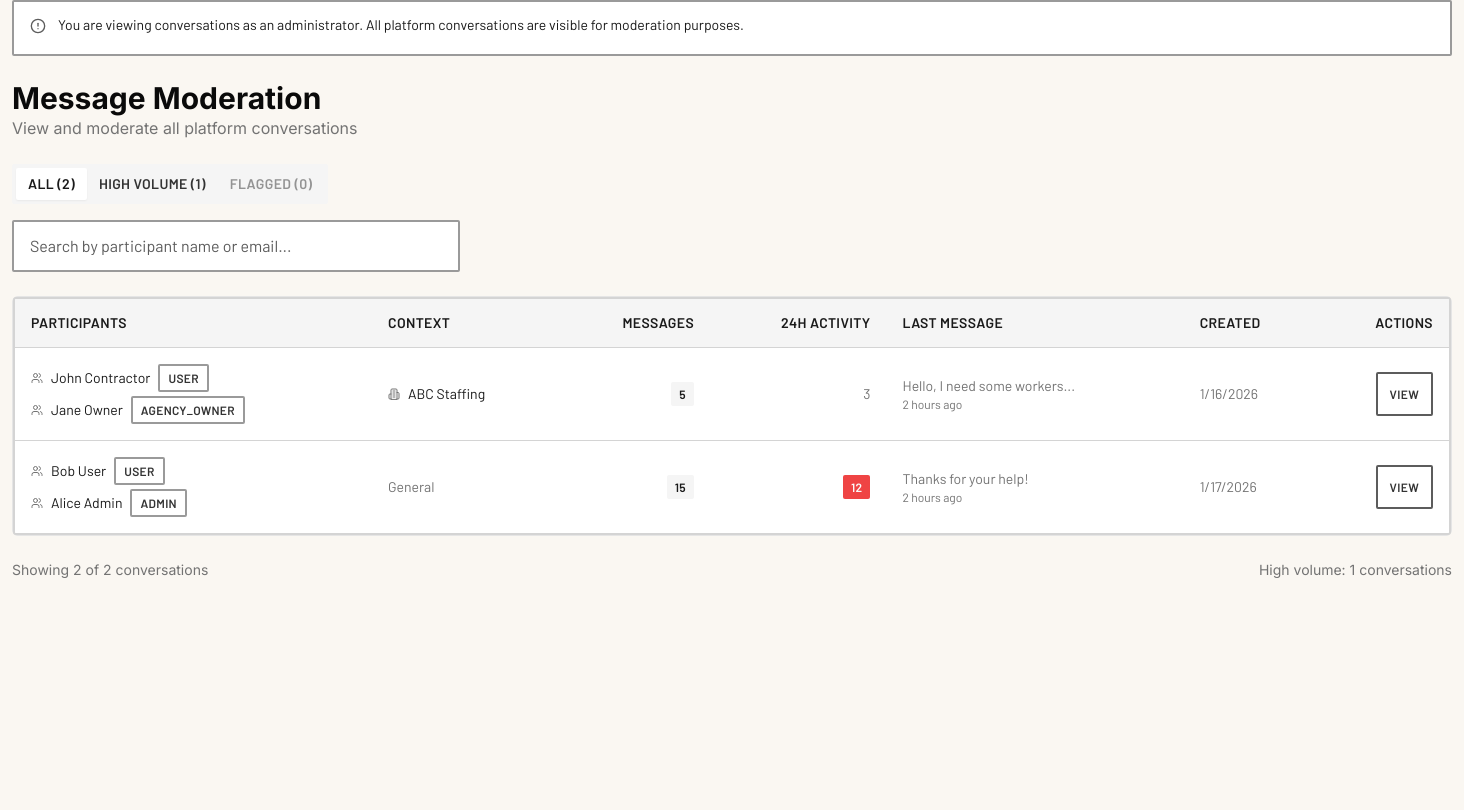
Test: AdminMessagesClient › Filter Tabs › should filter to high volume conversations
The image size is (1464, 810).
Click the tab "High Volume (1)".
click(152, 184)  # box x1=87 y1=168 x2=218 y2=200
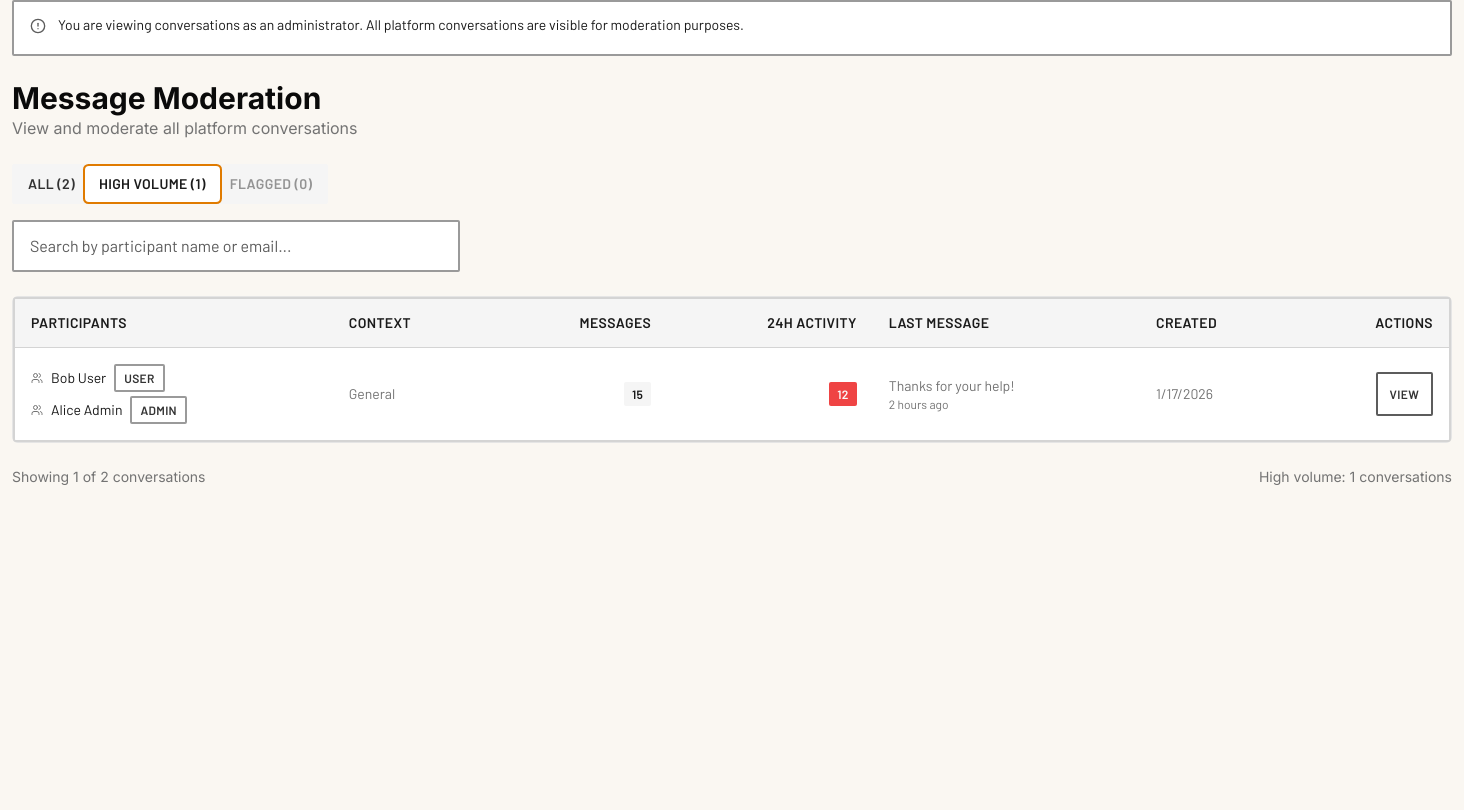
Expected: the text "Bob User" is shown, x1=51 y1=368 x2=106 y2=388
Result: the text "John Contractor" is gone
